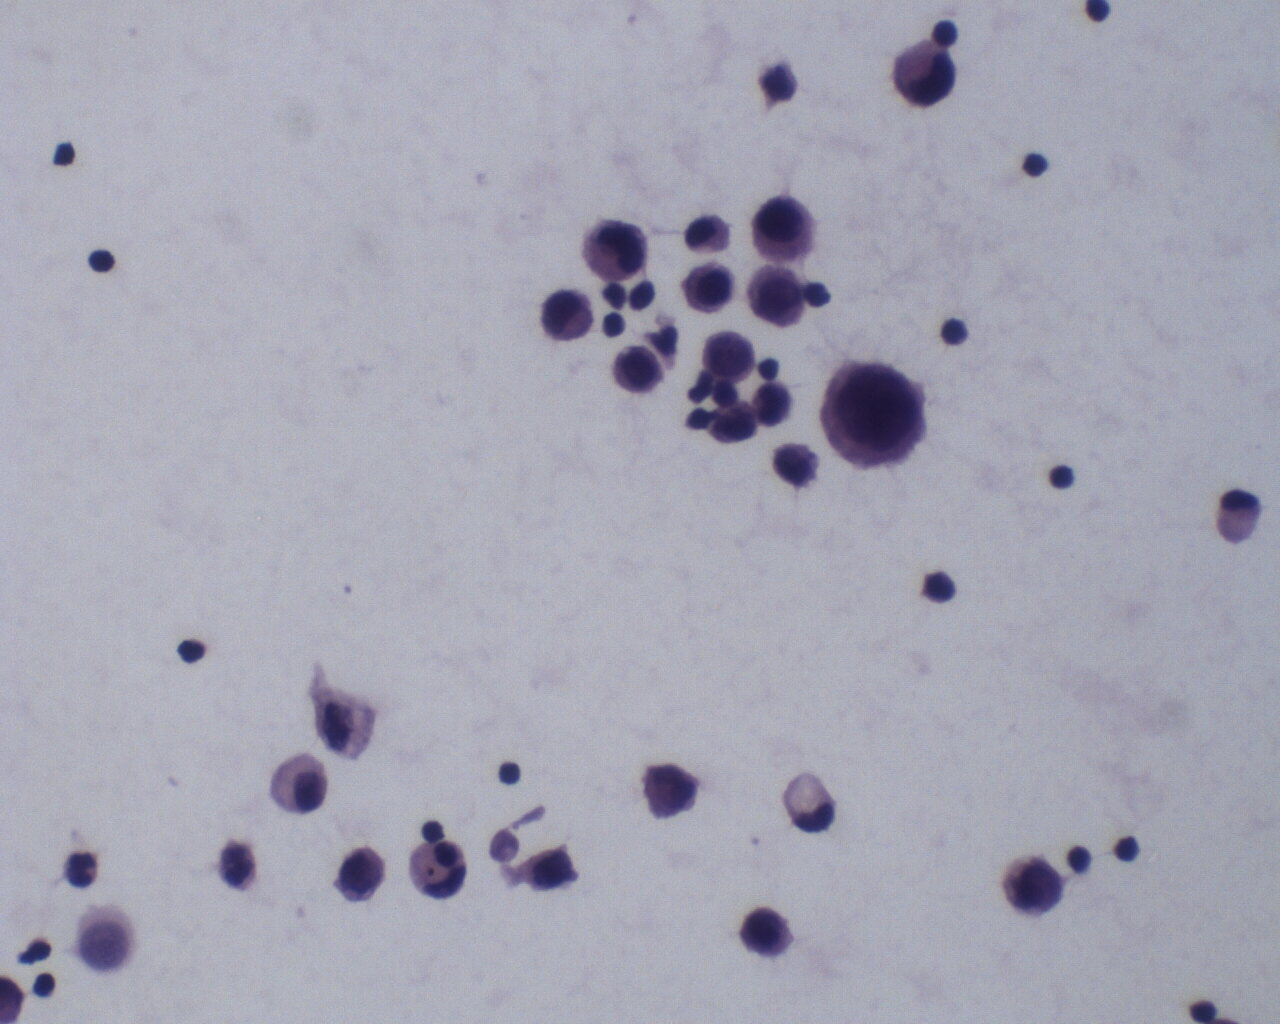ab: (819, 353, 935, 476), (884, 41, 964, 114), (747, 191, 816, 265), (998, 848, 1066, 920), (579, 215, 650, 283), (745, 260, 809, 328), (634, 763, 702, 827), (333, 839, 388, 905), (734, 906, 800, 959), (701, 328, 758, 385), (537, 286, 595, 340), (609, 342, 664, 396), (769, 440, 824, 493), (680, 260, 739, 310), (519, 844, 578, 893), (707, 401, 760, 449)
histo: (779, 770, 846, 838), (264, 753, 330, 812), (1214, 485, 1267, 546)
lymph: (917, 566, 963, 607), (938, 312, 972, 347), (1048, 458, 1078, 493), (84, 245, 118, 275)
neutro: (62, 850, 100, 891)
